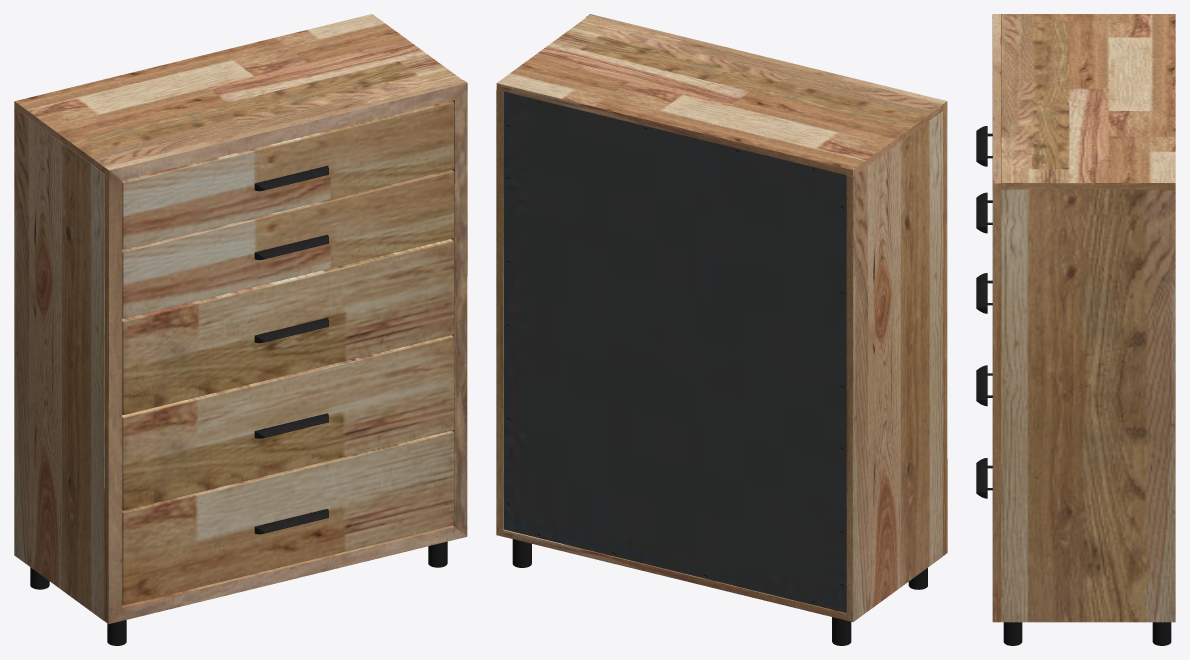
3 renders of one model, left to right at view 1: azimuth 30°, elevation 25°; view 2: azimuth 150°, elevation 25°; view 3: azimuth 270°, elevation 25°, orthographic. The views are drawn at different scales.
Parts seen in each view (by area): view 1: RootNode; view 2: RootNode; view 3: RootNode.
Boxes of the visible parts, x1,y1,x2,y2 form: RootNode: [14, 14, 467, 645]; RootNode: [496, 14, 947, 645]; RootNode: [976, 14, 1175, 645].
Bounding box in the file's own units: 0.9659 × 1.24 × 0.4805.
1 material, 1 textured.
